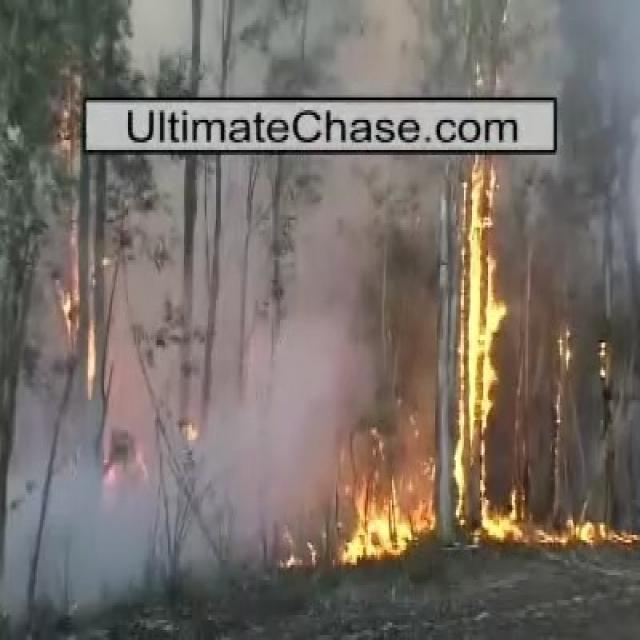fire: (454, 158, 498, 532), (348, 488, 433, 560)
smoke: (19, 400, 100, 603), (516, 6, 628, 89)
